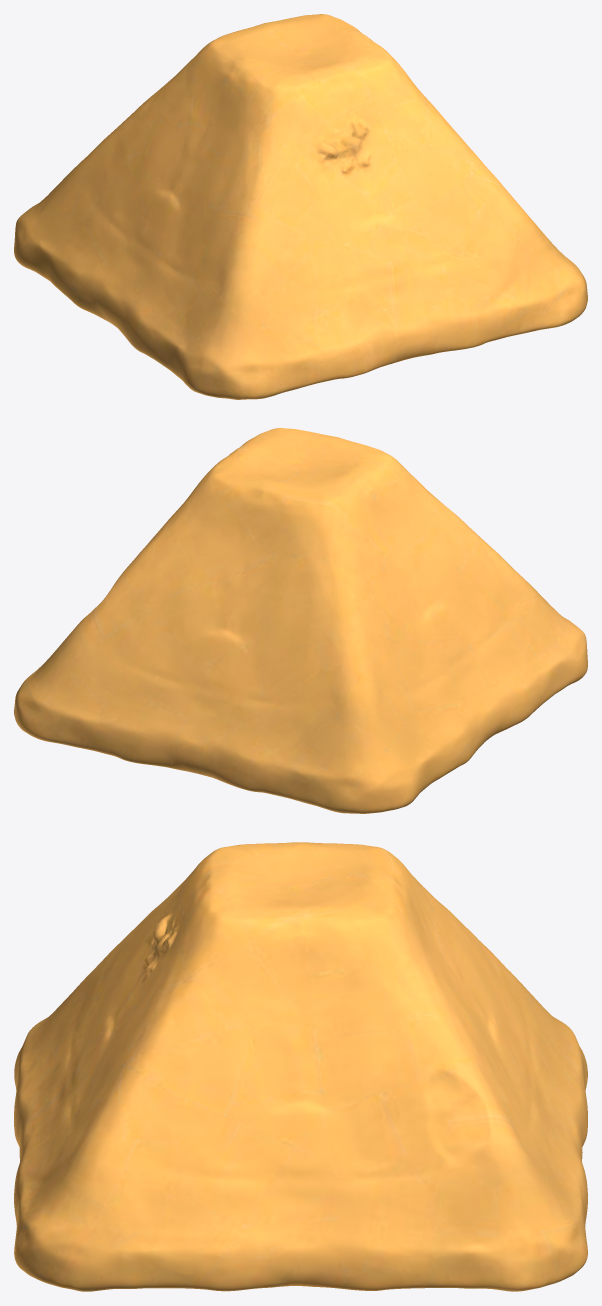
3 renders of one model, top to bottom at view 1: azimuth 30°, elevation 25°; view 2: azimuth 150°, elevation 25°; view 3: azimuth 270°, elevation 25°, orthographic. The views are drawn at different scales.
Bounding box in the file's own units: 1.9 × 1.15 × 1.9.
Materials: 1 (1 with a texture image).
